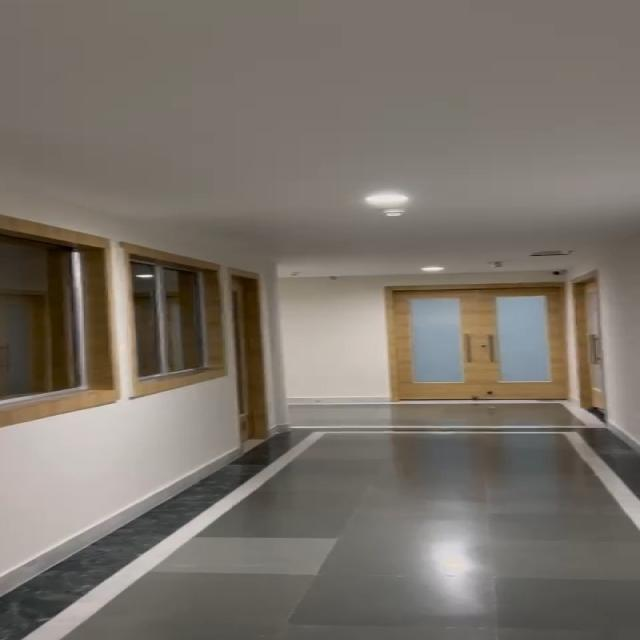door: (390, 281, 588, 409), (225, 264, 268, 436)
floor: (304, 404, 603, 640)
wall: (286, 264, 385, 392), (0, 427, 234, 472), (608, 240, 640, 418)
